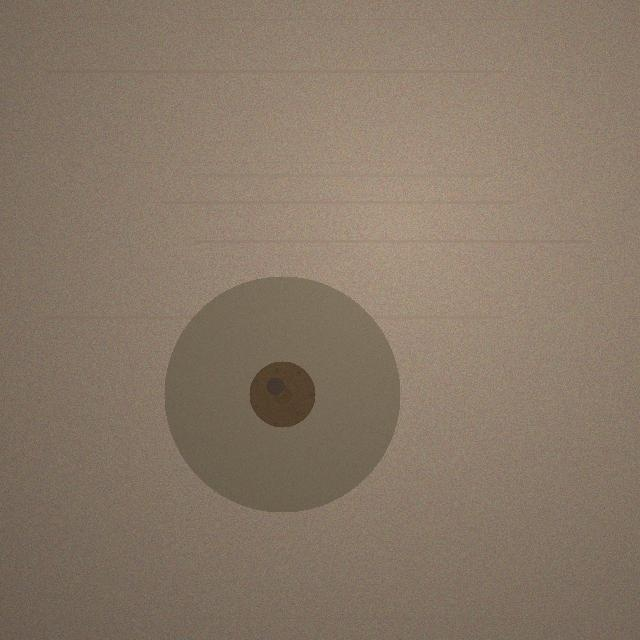cold_weld: (164, 276, 400, 512)
